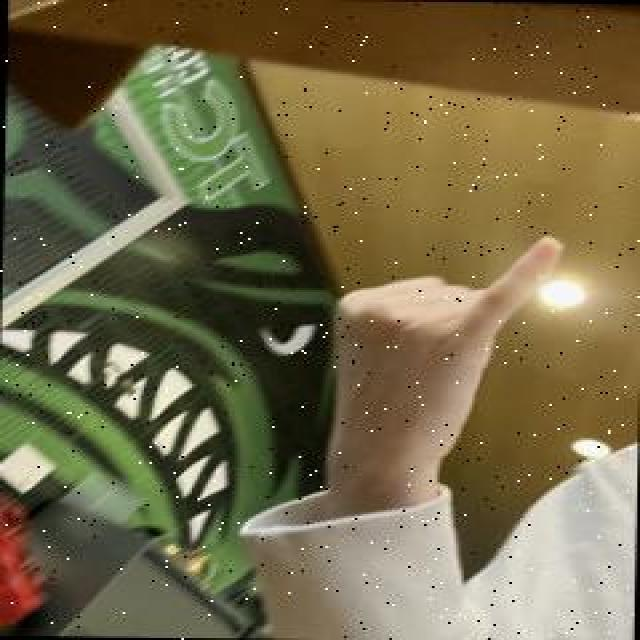I: (317, 224, 571, 468)
